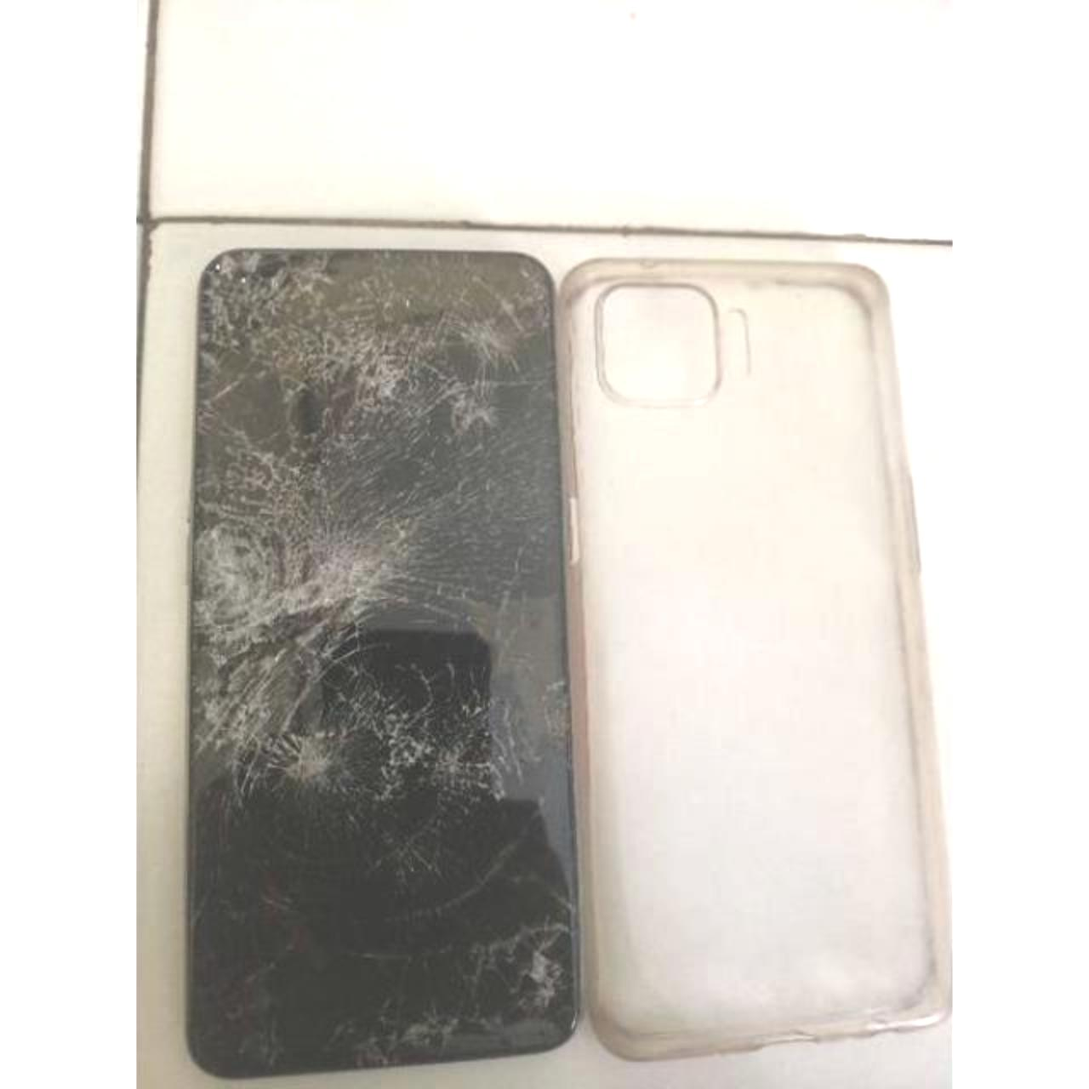phone: (192, 244, 582, 1061)
